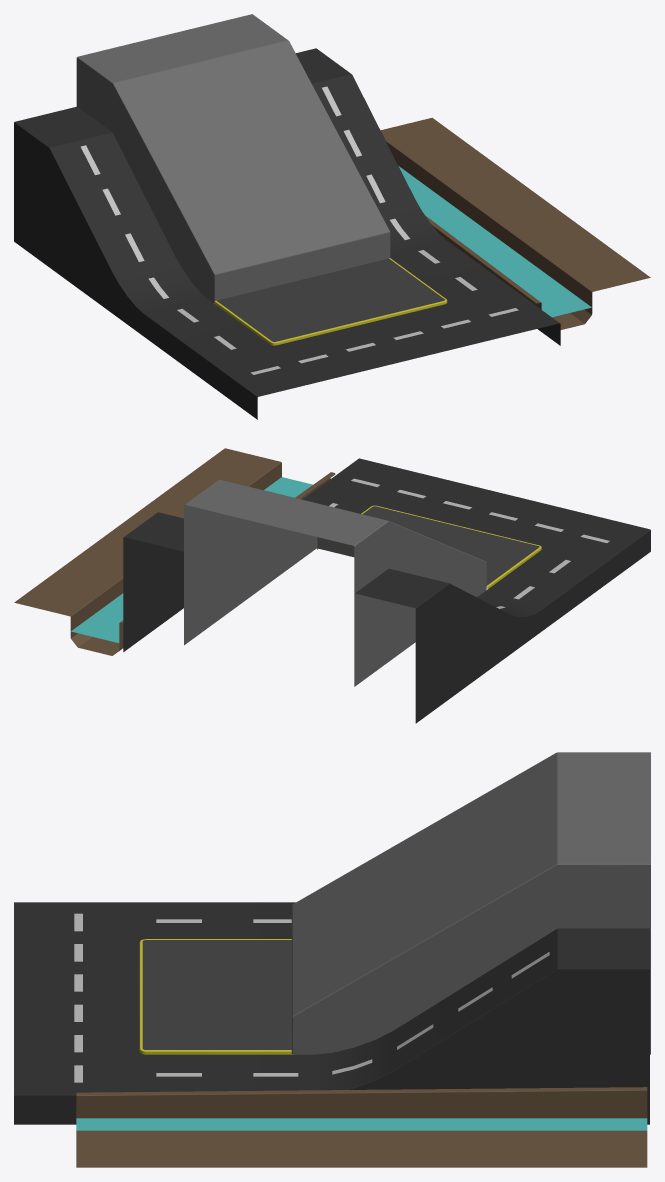
File: Escenario.glb
3 renders of one model, top to bottom at view 1: azimuth 30°, elevation 25°; view 2: azimuth 150°, elevation 25°; view 3: azimuth 270°, elevation 25°, orthographic. The views are drawn at different scales.
Parts seen in each view (by area): view 1: Calle, Pared, Canal, PlayZone, Agua, Calle.001, Calle.002; view 2: Calle, Pared, Canal, PlayZone, Agua, Calle.002; view 3: Calle, Pared, Canal, PlayZone, Agua, Calle.001, Calle.002.
Part boxes in pixels (left/top/right/bottom): Calle: left=14, top=48, right=560, bottom=419; Pared: left=76, top=14, right=390, bottom=302; Canal: left=380, top=117, right=650, bottom=329; PlayZone: left=214, top=258, right=447, bottom=345; Agua: left=398, top=166, right=591, bottom=317; Calle.001: left=81, top=86, right=477, bottom=349; Calle.002: left=251, top=308, right=518, bottom=374; Calle: left=123, top=458, right=650, bottom=723; Pared: left=184, top=479, right=486, bottom=686; Canal: left=14, top=448, right=335, bottom=655; PlayZone: left=317, top=505, right=541, bottom=589; Agua: left=71, top=477, right=312, bottom=642; Calle.002: left=351, top=478, right=609, bottom=542; Calle: left=14, top=902, right=649, bottom=1124; Pared: left=291, top=752, right=650, bottom=1054; Canal: left=76, top=1087, right=647, bottom=1167; PlayZone: left=139, top=939, right=291, bottom=1054; Agua: left=76, top=1118, right=647, bottom=1130; Calle.001: left=156, top=919, right=549, bottom=1076; Calle.002: left=74, top=913, right=82, bottom=1082.
Size of the model in its own units: 49.67 by 20.08 by 50.31.
